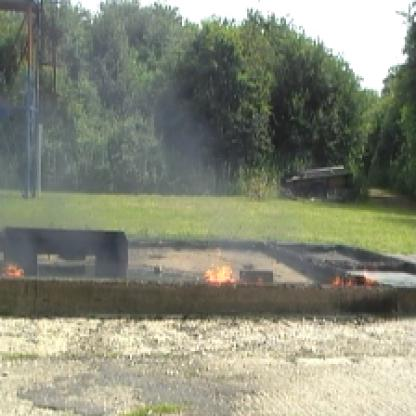Fire: (318, 262, 388, 295), (204, 245, 247, 288)
Smoke: (2, 67, 199, 262)
